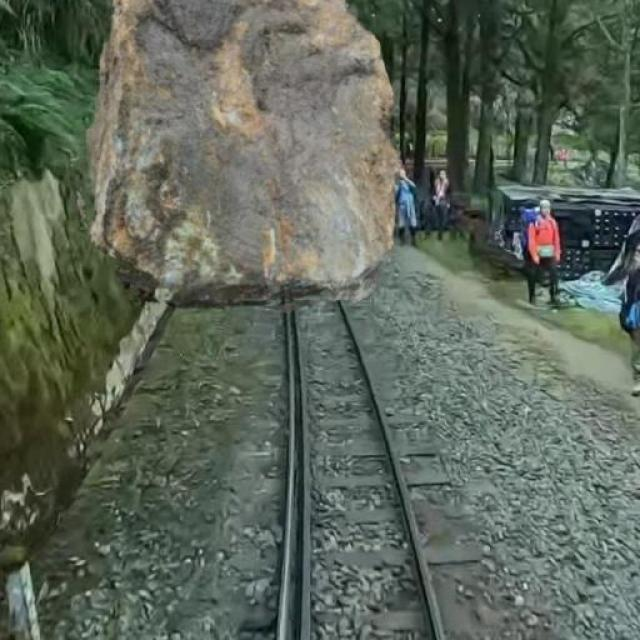Stone: (84, 0, 404, 312)
people: (515, 191, 566, 310), (428, 160, 464, 243), (394, 156, 421, 249)
